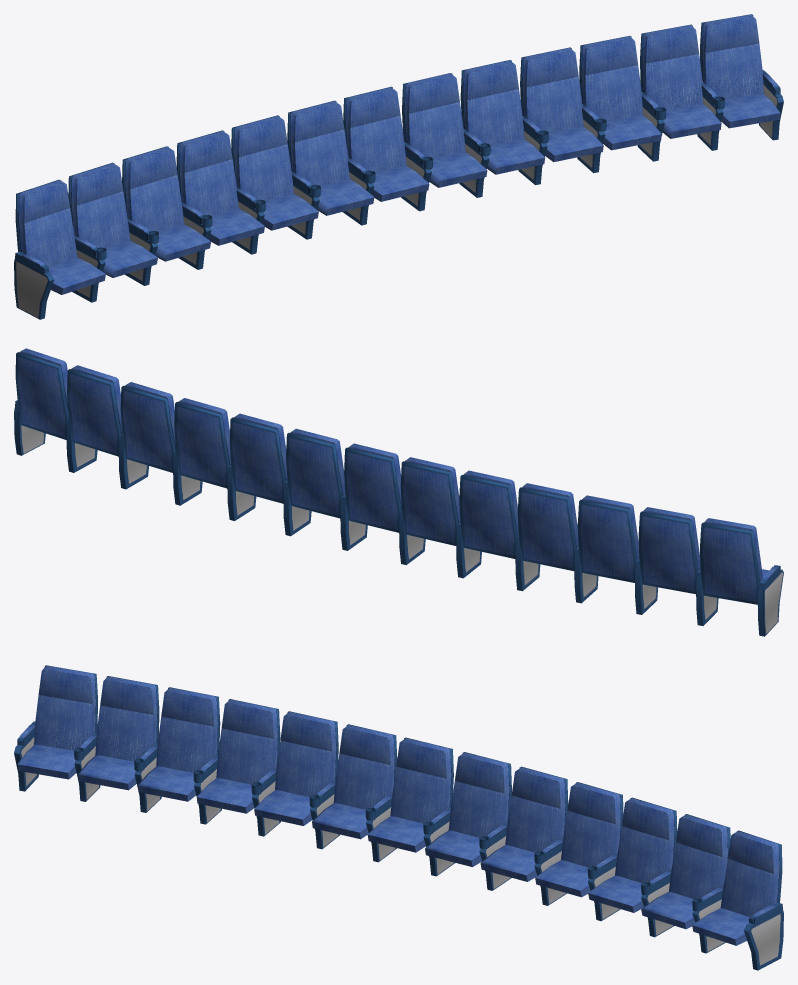
File: CinemaChair01a.FBX
3 views of the same model, one above another, from view 1: azimuth 30°, elevation 25°; view 2: azimuth 150°, elevation 25°; view 3: azimuth 330°, elevation 25° (orthographic).
Parts seen in each view (by area): view 1: CinemaChair01a; view 2: CinemaChair01a; view 3: CinemaChair01a.
Boxes of the visible parts, x1=… form: CinemaChair01a: x1=14, y1=14, x2=783, y2=319; CinemaChair01a: x1=14, y1=348, x2=783, y2=636; CinemaChair01a: x1=14, y1=665, x2=783, y2=970.
Bounding box in the file's own units: 1081 × 150 × 135.
